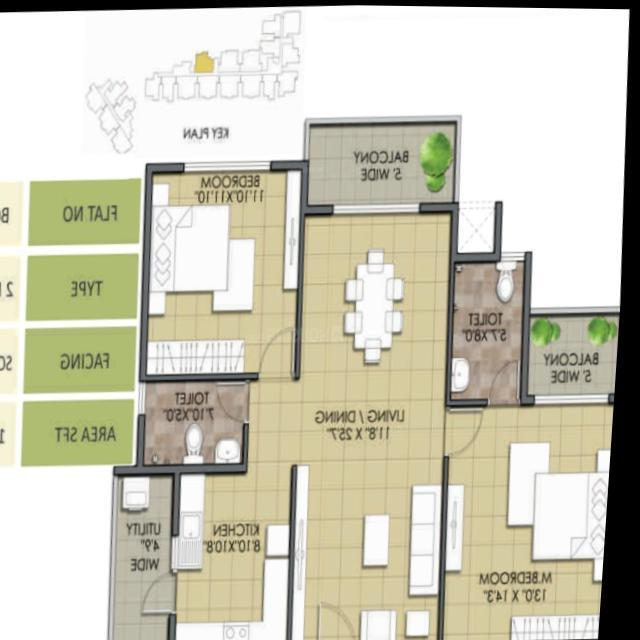Balcony-Sitout: (302, 116, 461, 214), (524, 302, 624, 406)
Bedroom: (141, 159, 308, 384)
Bedroom with Toilet: (446, 251, 620, 640)
Dining: (346, 243, 411, 367)
Kitchen: (180, 462, 298, 640)
Living: (291, 459, 452, 640)
Toilet: (449, 252, 534, 406), (140, 367, 255, 471)
Utility: (115, 461, 185, 640)
